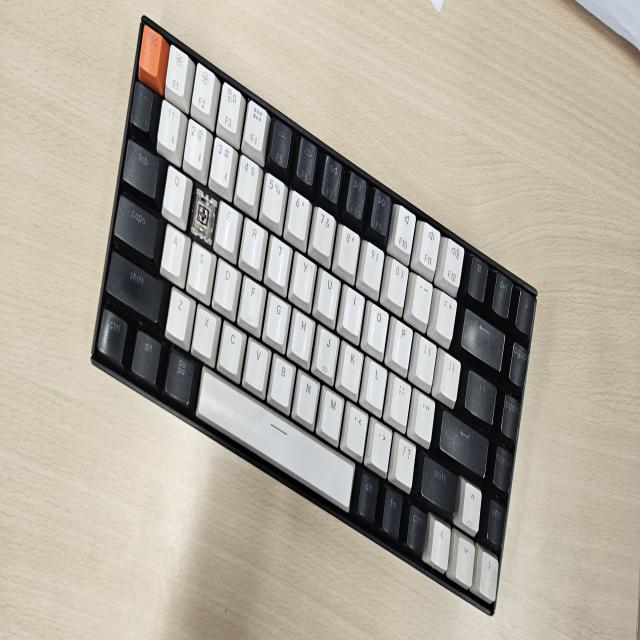C: (190, 182, 213, 245)
